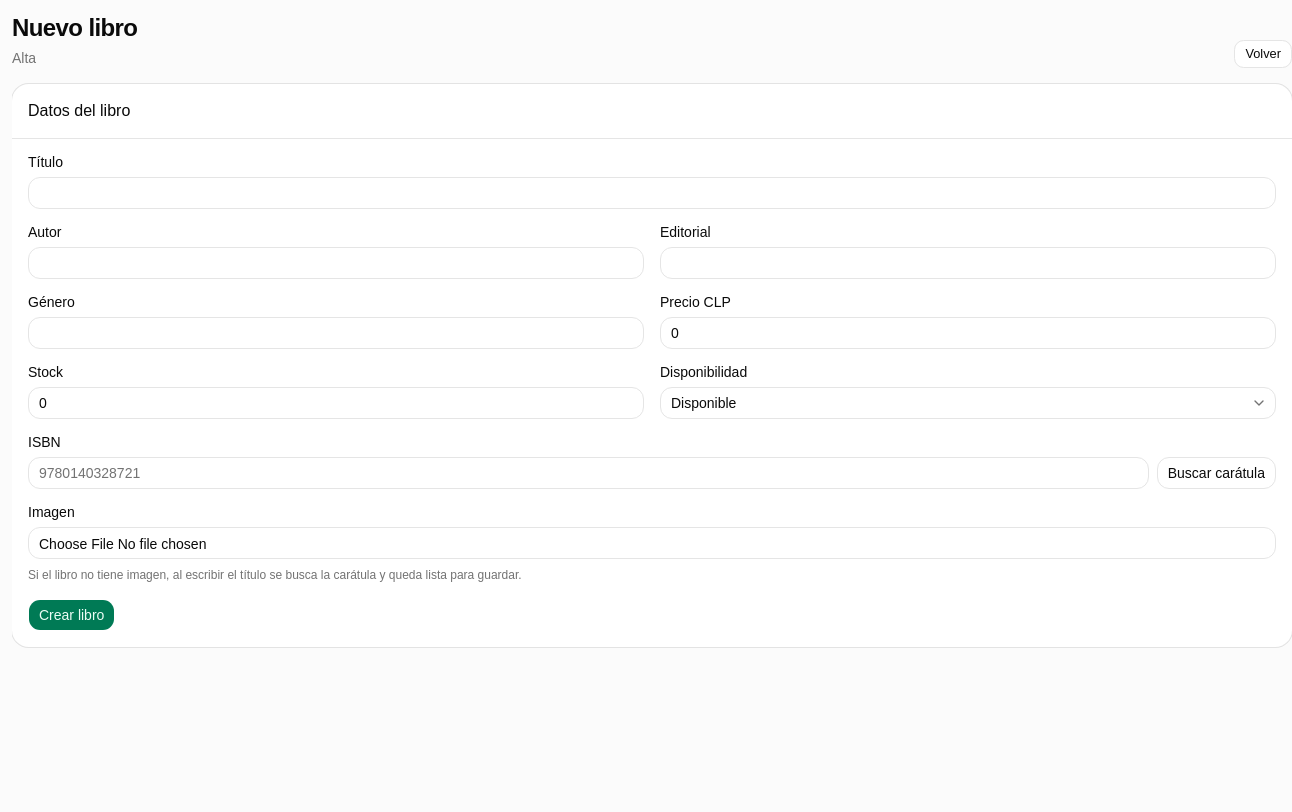
Test: BookFormPage › pide ISBN o título antes de buscar
Click the button "Buscar carátula": coordinates (1216, 473) [1157,457,1276,489]
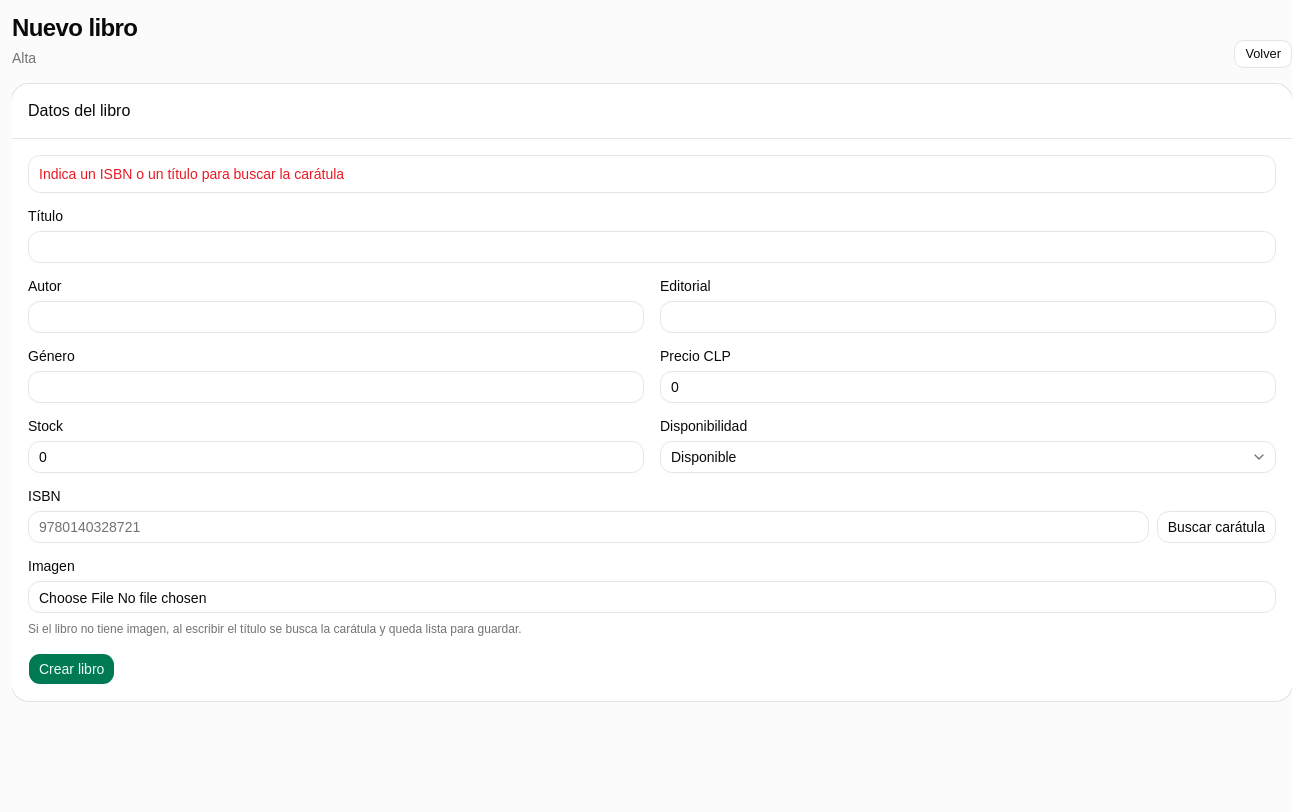
Expected: the text "Indica un ISBN o un título para buscar la carátula" is shown, [39,166,344,182]
